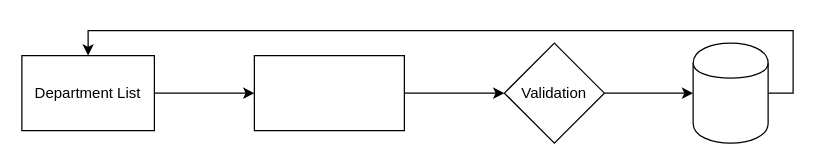
This 825x165 diagram has some shape labels left out. The shapes that lost their labels are listed below. From the top down, each one's box as (x1, y1, x2, y2) in pixels, then its label:
(253, 54, 404, 131): Decative Department Form
(692, 42, 768, 143): Database
